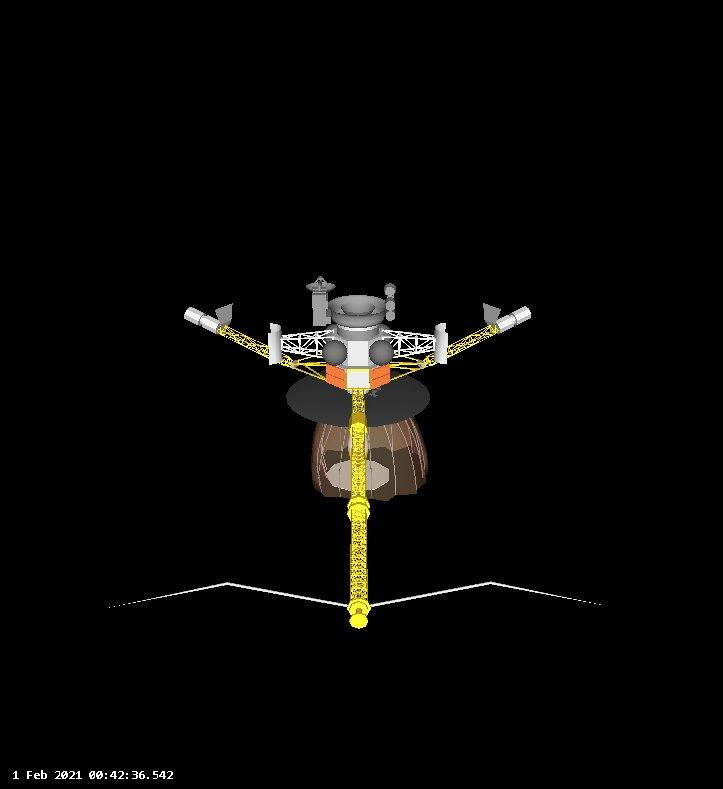antenna: (177, 300, 331, 387), (406, 298, 537, 372), (342, 378, 375, 631), (376, 318, 452, 372), (263, 319, 337, 367), (327, 454, 392, 497), (303, 272, 340, 297)
body: (323, 318, 393, 396)
thruster: (339, 294, 376, 317)
